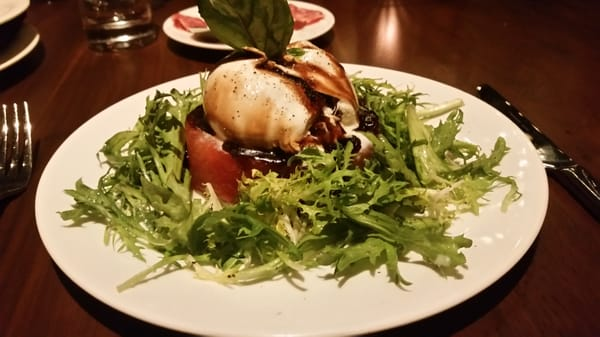pizza: (79, 1, 157, 53)
sandwich: (475, 81, 600, 224)
soup: (183, 42, 361, 203)
